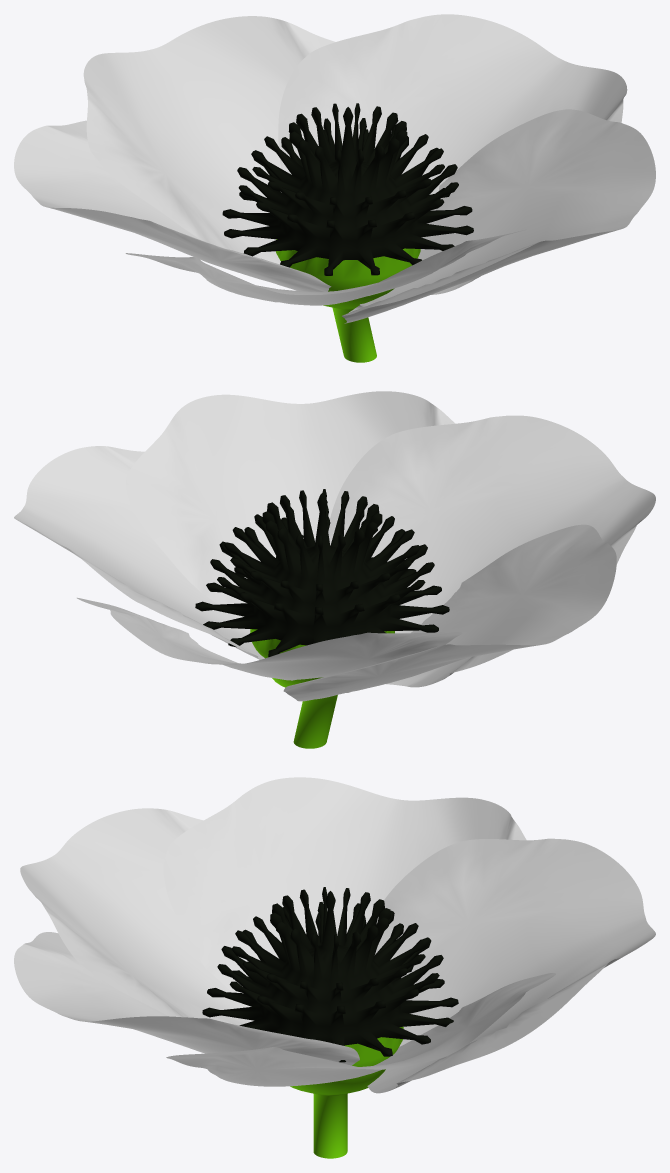
File: WoodPoppy01.fbx
3 views of the same model, one above another, from view 1: azimuth 30°, elevation 25°; view 2: azimuth 150°, elevation 25°; view 3: azimuth 270°, elevation 25° (orthographic).
Visible parts, largest first — view 1: Flower.001, Flower.005, Flower, Flower.004, Flower.002, Flower.003; view 2: Flower.003, Flower.004, Flower, Flower.002, Flower.005, Flower.001; view 3: Flower.001, Flower.002, Flower, Flower.003, Flower.004, Flower.005.
Part boxes in pixels (x1=…): Flower.001: x1=83, y1=16, x2=335, y2=264; Flower.005: x1=278, y1=14, x2=627, y2=294; Flower: x1=222, y1=103, x2=473, y2=362; Flower.004: x1=342, y1=109, x2=655, y2=323; Flower.002: x1=14, y1=120, x2=331, y2=291; Flower.003: x1=125, y1=229, x2=526, y2=305; Flower.003: x1=328, y1=415, x2=655, y2=687; Flower.004: x1=125, y1=391, x2=454, y2=618; Flower: x1=195, y1=489, x2=449, y2=748; Flower.002: x1=283, y1=524, x2=616, y2=701; Flower.005: x1=14, y1=446, x2=264, y2=659; Flower.001: x1=77, y1=597, x2=462, y2=680; Flower.001: x1=367, y1=838, x2=655, y2=1093; Flower.002: x1=163, y1=777, x2=526, y2=1007; Flower: x1=202, y1=887, x2=458, y2=1158; Flower.003: x1=20, y1=808, x2=253, y2=1025; Flower.004: x1=14, y1=932, x2=359, y2=1065; Flower.005: x1=166, y1=973, x2=555, y2=1086.
Bounding box in the file's own units: 3.42 × 1.46 × 3.33.
